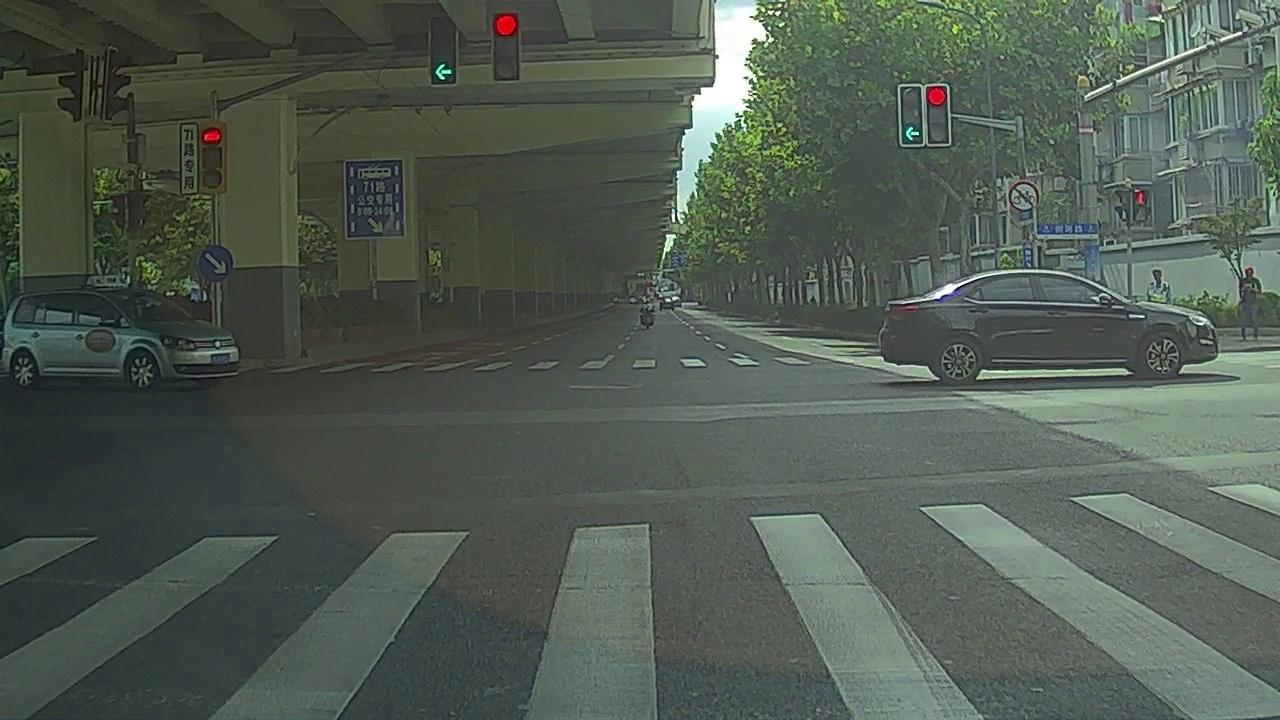traffic_light: (430, 15, 457, 86), (494, 13, 519, 81), (899, 85, 924, 145), (926, 86, 950, 143)
